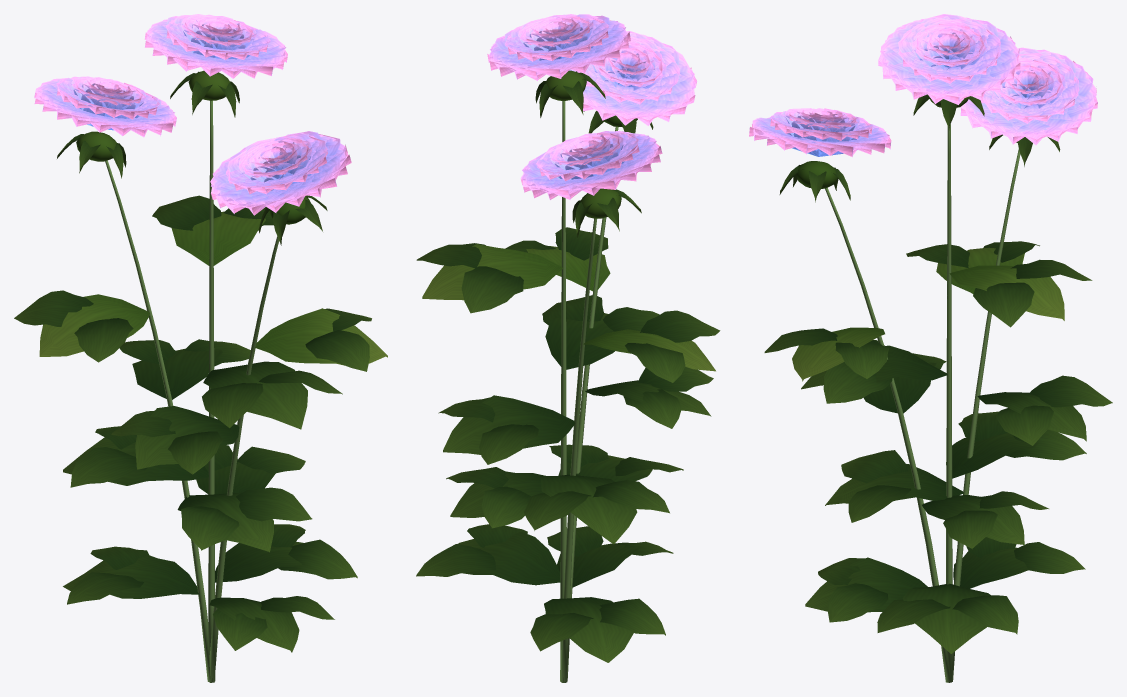
File: rose-dream-10-lod.glb
3 views of the same model, side by side, from view 1: azimuth 30°, elevation 25°; view 2: azimuth 150°, elevation 25°; view 3: azimuth 270°, elevation 25° (orthographic).
Visible parts, largest first — view 1: rose_dream_stage_10_leaf_veins.021, rose_dream_stage_10_rose_petal.021, rose_dream_stage_10_young_leaf.021, rose_dream_stage_10_stem_fibres.021; view 2: rose_dream_stage_10_leaf_veins.021, rose_dream_stage_10_rose_petal.021, rose_dream_stage_10_young_leaf.021, rose_dream_stage_10_stem_fibres.021; view 3: rose_dream_stage_10_leaf_veins.021, rose_dream_stage_10_rose_petal.021, rose_dream_stage_10_stem_fibres.021, rose_dream_stage_10_young_leaf.021.
Boxes of the visible parts, x1=… form: rose_dream_stage_10_leaf_veins.021: x1=14, y1=71, x2=371, y2=652; rose_dream_stage_10_rose_petal.021: x1=34, y1=14, x2=351, y2=215; rose_dream_stage_10_young_leaf.021: x1=39, y1=70, x2=387, y2=365; rose_dream_stage_10_stem_fibres.021: x1=105, y1=100, x2=279, y2=682; rose_dream_stage_10_leaf_veins.021: x1=416, y1=71, x2=720, y2=662; rose_dream_stage_10_rose_petal.021: x1=487, y1=14, x2=696, y2=199; rose_dream_stage_10_young_leaf.021: x1=422, y1=70, x2=715, y2=371; rose_dream_stage_10_stem_fibres.021: x1=560, y1=101, x2=618, y2=682; rose_dream_stage_10_leaf_veins.021: x1=764, y1=94, x2=1112, y2=653; rose_dream_stage_10_rose_petal.021: x1=749, y1=14, x2=1097, y2=156; rose_dream_stage_10_stem_fibres.021: x1=825, y1=124, x2=1020, y2=682; rose_dream_stage_10_young_leaf.021: x1=792, y1=97, x2=1064, y2=381.
Size of the model in its own units: 0.3538 by 0.7582 by 0.3855.
4 materials, 3 textured.
